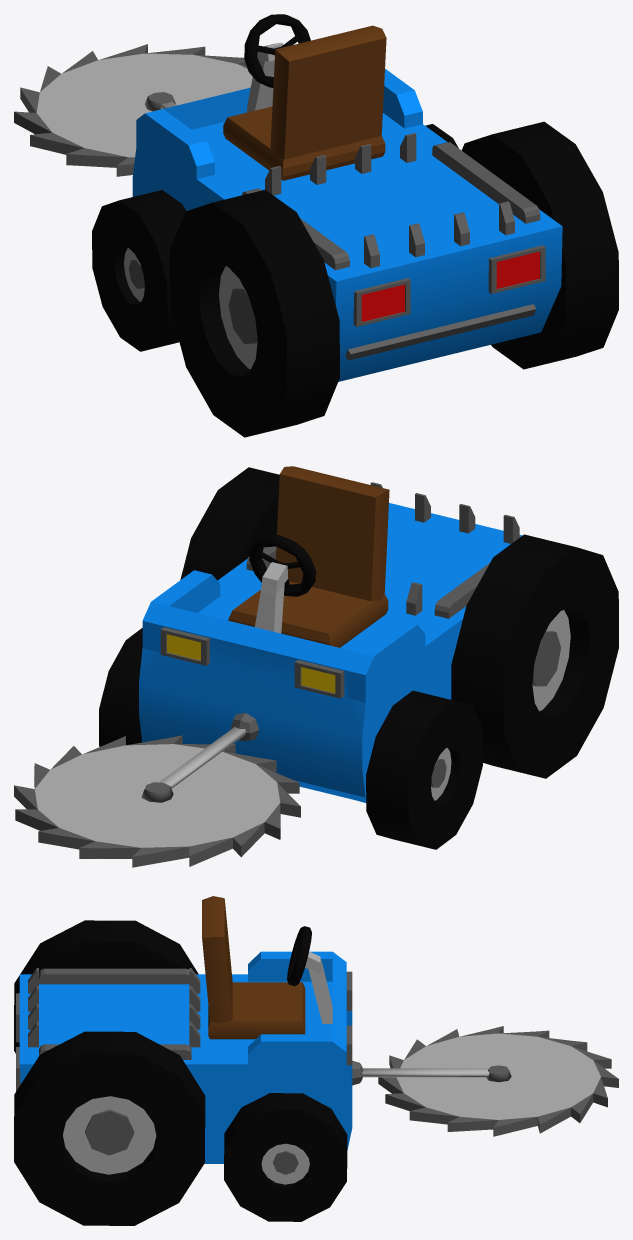
The model's file is DROW1.fbx.
3 renders of one model, top to bottom at view 1: azimuth 30°, elevation 25°; view 2: azimuth 150°, elevation 25°; view 3: azimuth 270°, elevation 25°, orthographic. The views are drawn at different scales.
Parts seen in each view (by area): view 1: Cube.018, Cube.004, Cube.006, Cube.007, Cube.013, Cylinder, Cube.005; view 2: Cube.018, Cube.004, Cube.007, Cube.006, Cylinder, Cube.002, Cube.005; view 3: Cube.018, Cube.004, Cube.007, Cube.006, Cube.002, Cube.005, Cylinder.
Boxes of the visible parts, bbox=[...] form: Cube.018: bbox=[92, 121, 618, 437]; Cube.004: bbox=[132, 68, 562, 381]; Cube.006: bbox=[223, 25, 386, 180]; Cube.007: bbox=[14, 44, 252, 176]; Cube.013: bbox=[345, 304, 536, 360]; Cylinder: bbox=[244, 14, 310, 87]; Cube.005: bbox=[247, 42, 283, 112]; Cube.018: bbox=[99, 467, 618, 849]; Cube.004: bbox=[139, 482, 522, 802]; Cube.007: bbox=[14, 735, 300, 867]; Cube.006: bbox=[228, 466, 389, 647]; Cylinder: bbox=[249, 534, 315, 596]; Cube.002: bbox=[141, 727, 245, 802]; Cube.005: bbox=[255, 562, 288, 633]; Cube.018: bbox=[14, 920, 347, 1225]; Cube.004: bbox=[16, 951, 352, 1163]; Cube.007: bbox=[378, 1026, 618, 1136]; Cube.006: bbox=[202, 896, 305, 1039]; Cube.002: bbox=[362, 1065, 511, 1082]; Cube.005: bbox=[305, 951, 332, 1023]; Cylinder: bbox=[287, 926, 311, 986].
Bounding box in the file's own units: 681 × 585 × 1317.
